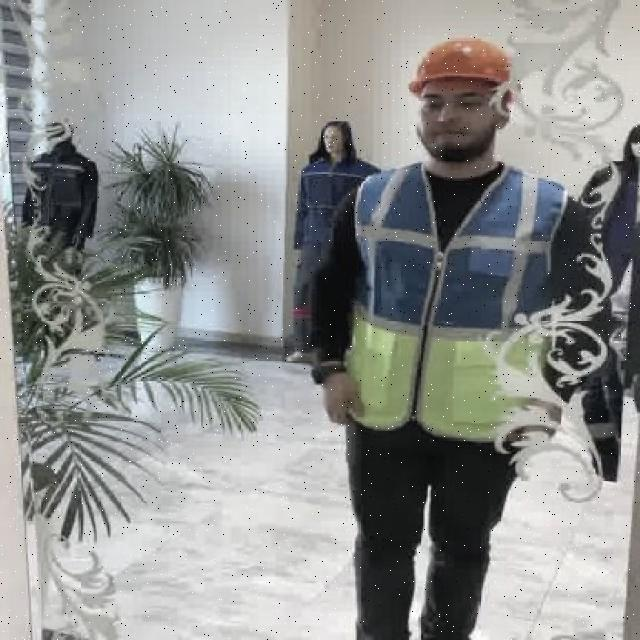Helmet: (405, 34, 521, 98)
Mask: (334, 161, 568, 442), (287, 120, 375, 369), (578, 158, 638, 377), (15, 133, 109, 269)
